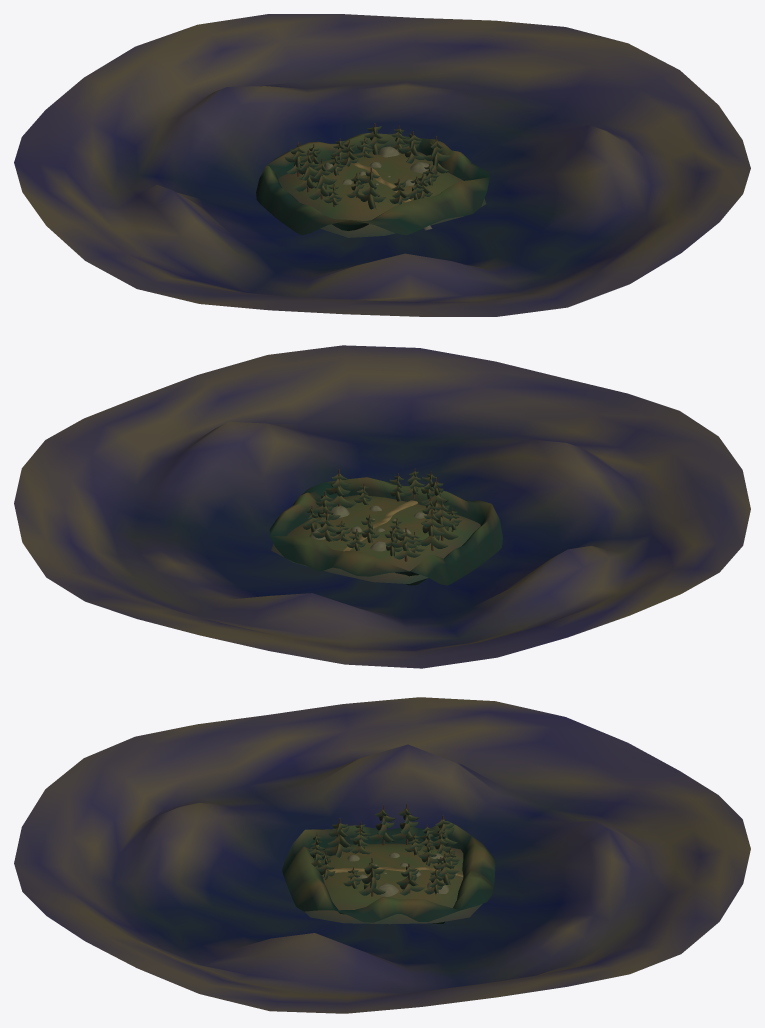
Rendered from SM_GSEnvironment_01.fbx.
3 renders of one model, top to bottom at view 1: azimuth 30°, elevation 25°; view 2: azimuth 150°, elevation 25°; view 3: azimuth 270°, elevation 25°, orthographic.
Visible parts, largest first — view 1: SM_Grass_Ground_01.001, SM_Foliage_01, SM_Grass_Ground_01; view 2: SM_Grass_Ground_01.001, SM_Foliage_01, SM_Grass_Ground_01; view 3: SM_Grass_Ground_01.001, SM_Foliage_01, SM_Grass_Ground_01.
Boxes of the visible parts, x1,y1,x2,y2 form: SM_Grass_Ground_01.001: [14, 14, 750, 316]; SM_Foliage_01: [256, 133, 489, 236]; SM_Grass_Ground_01: [278, 148, 486, 237]; SM_Grass_Ground_01.001: [14, 345, 750, 668]; SM_Foliage_01: [269, 477, 502, 585]; SM_Grass_Ground_01: [271, 495, 480, 583]; SM_Grass_Ground_01.001: [14, 697, 750, 1013]; SM_Foliage_01: [282, 821, 495, 923]; SM_Grass_Ground_01: [305, 843, 482, 924].
Bounding box in the file's own units: 23716 × 2530 × 23839.
